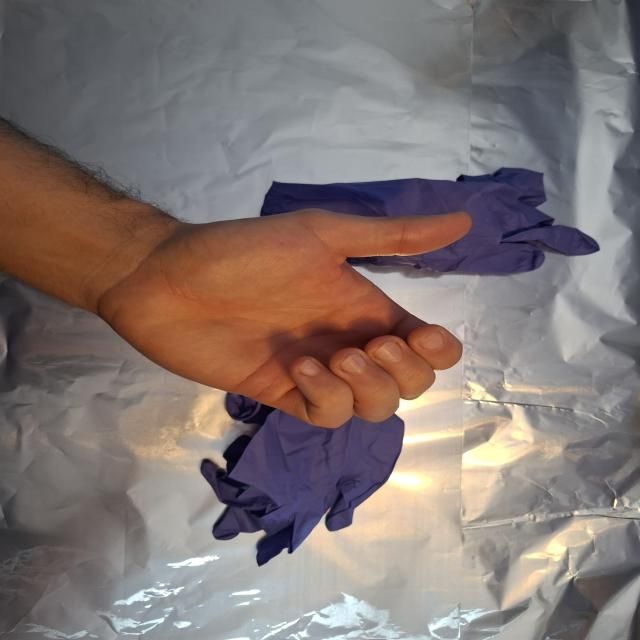glove_off: (88, 204, 479, 433)
